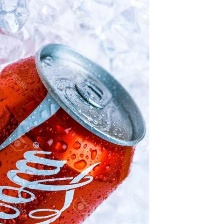can: (0, 40, 149, 223)
